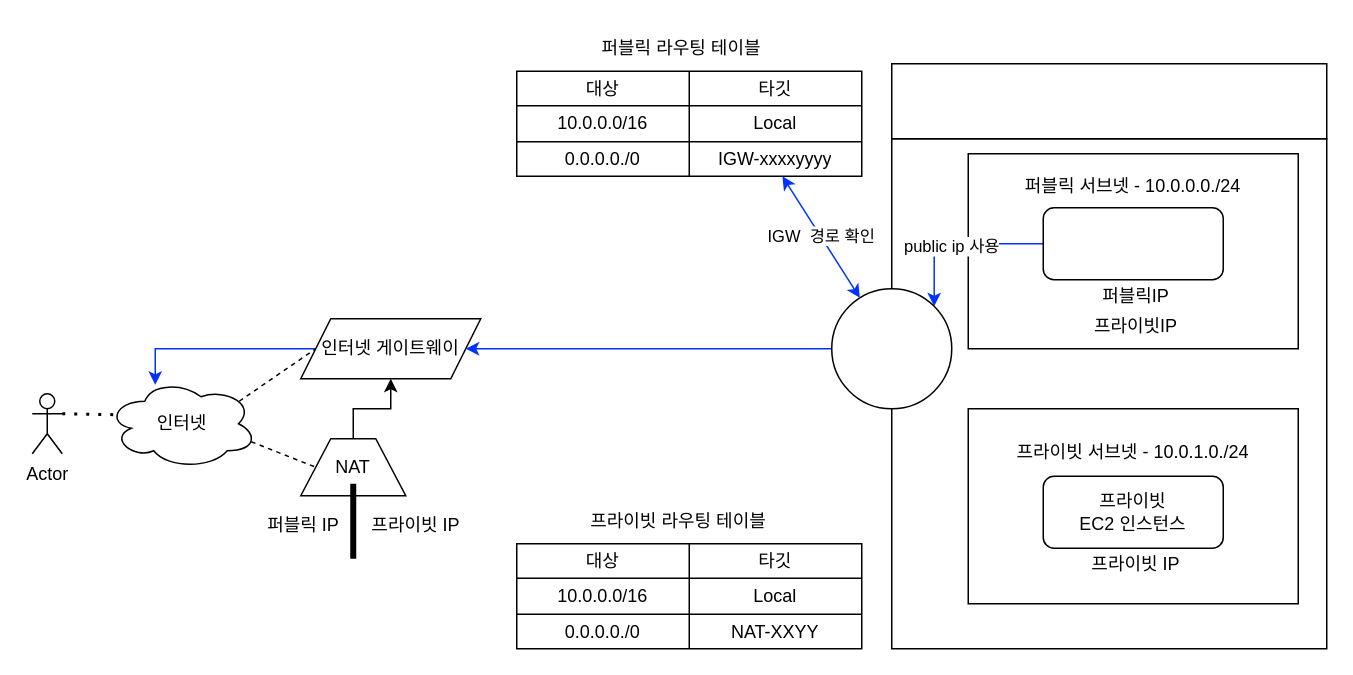
This 1353x675 diagram has some shape labels left out. Each missing label, with the centre of its shape:
"VPC - 10.0.0.0/16" goes at pixel 1108 100.
"가상 라우터" goes at pixel 891 348.
"퍼블릭 EC2 인스턴스" goes at pixel 1132 243.
